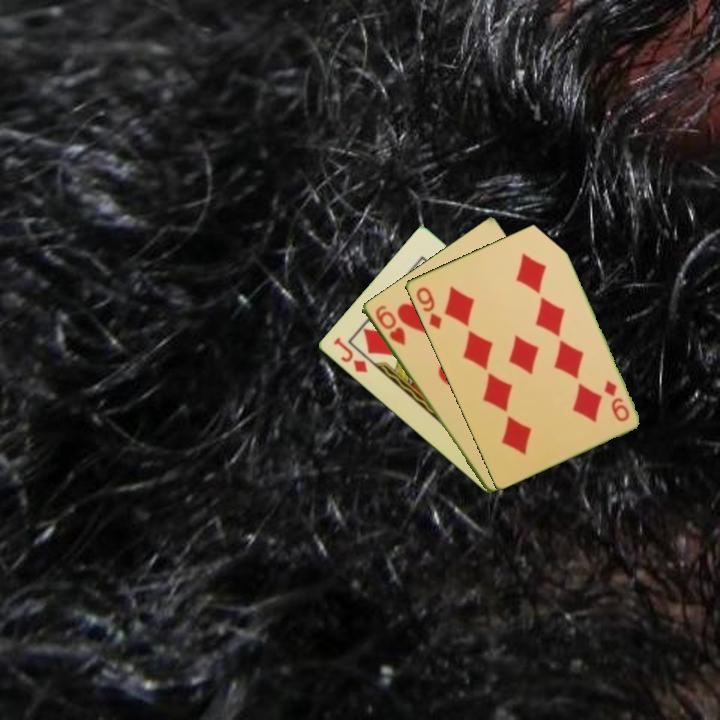6h: (371, 301, 408, 348)
9d: (412, 283, 444, 332), (600, 377, 632, 424)
Jd: (329, 333, 370, 376)
